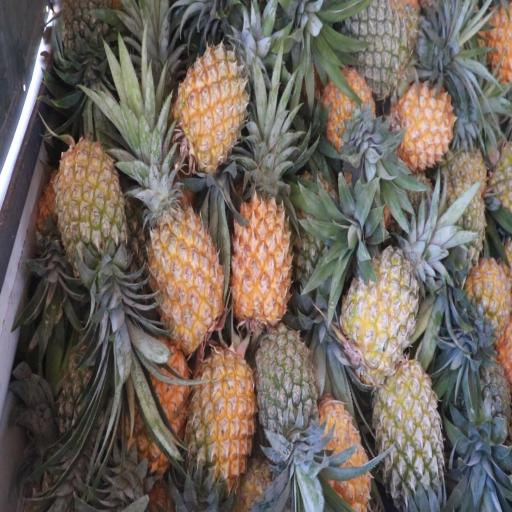------------------------------: (346, 248, 420, 378), (375, 370, 440, 508)
Pineapple - v8 v1: (149, 180, 225, 348), (58, 143, 126, 286), (176, 46, 249, 171), (191, 346, 256, 485), (231, 186, 292, 334), (131, 347, 193, 467), (316, 405, 370, 512), (398, 81, 457, 166), (323, 74, 380, 161), (463, 260, 508, 354)
